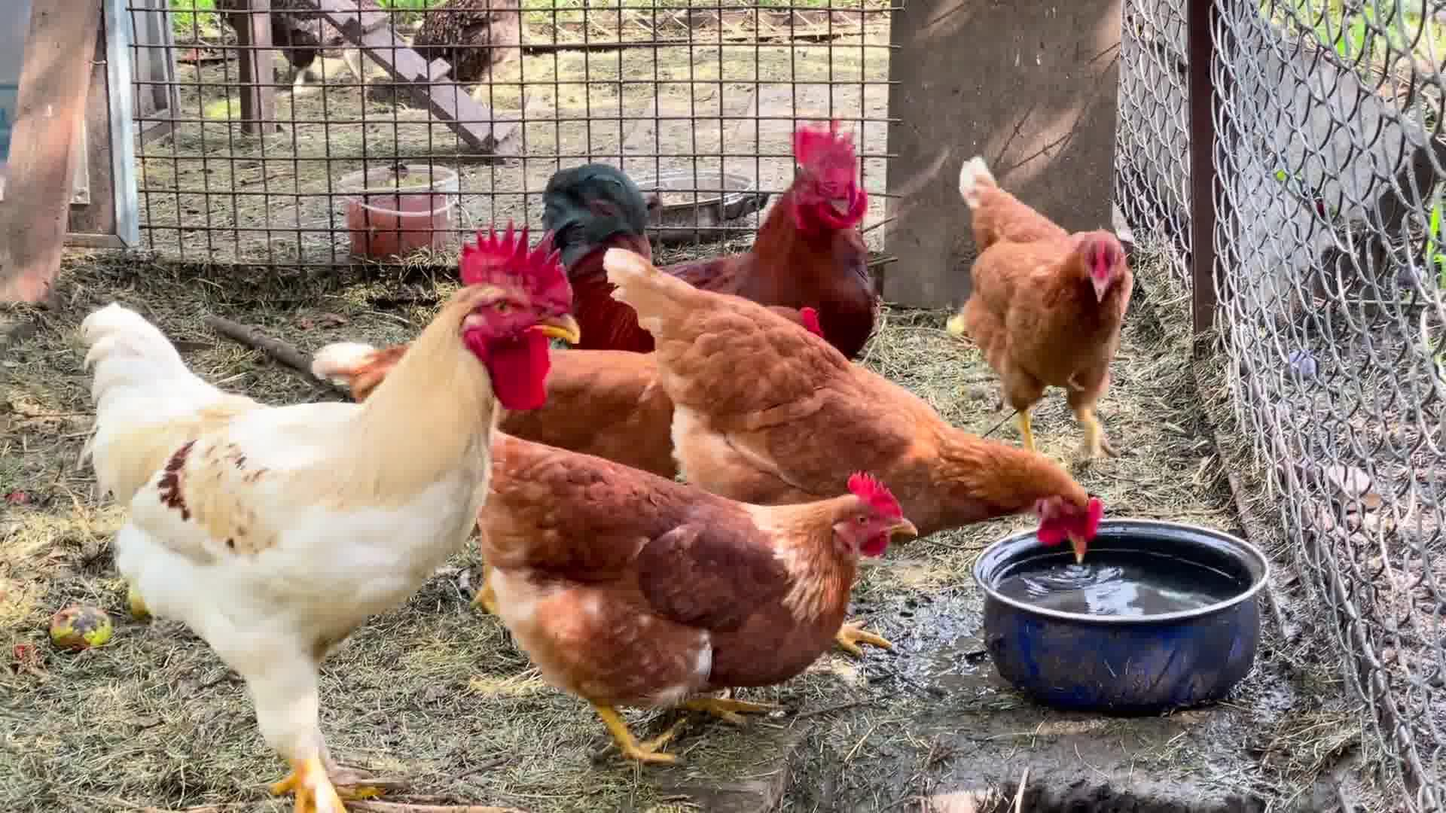Normal: (78, 226, 564, 800), (601, 238, 1099, 661), (484, 422, 912, 761), (518, 121, 905, 366), (946, 155, 1156, 464)
